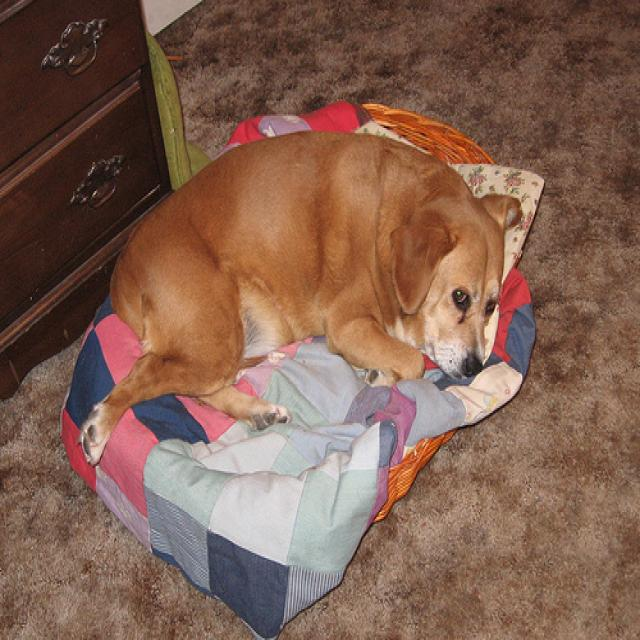dog: (388, 193, 521, 375)
